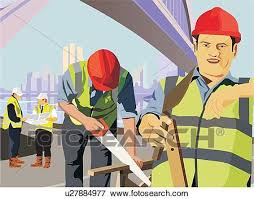helmet: (195, 8, 249, 39), (89, 51, 119, 91)
vest: (164, 75, 251, 189), (71, 91, 125, 137), (4, 97, 25, 129), (36, 104, 55, 127)
